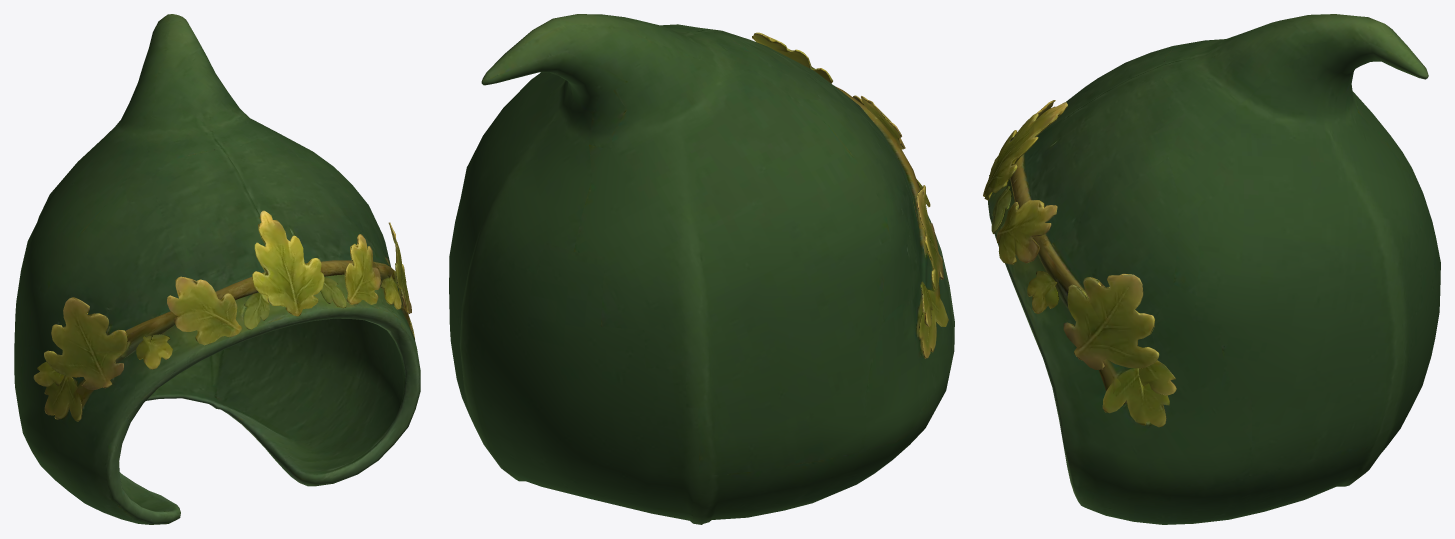
File: hat_forestier.glb
3 renders of one model, left to right at view 1: azimuth 30°, elevation 25°; view 2: azimuth 150°, elevation 25°; view 3: azimuth 270°, elevation 25°, orthographic. The views are drawn at different scales.
Size of the model in its own units: 0.9029 by 0.9521 by 0.835.
Materials: 1 (1 with a texture image).
